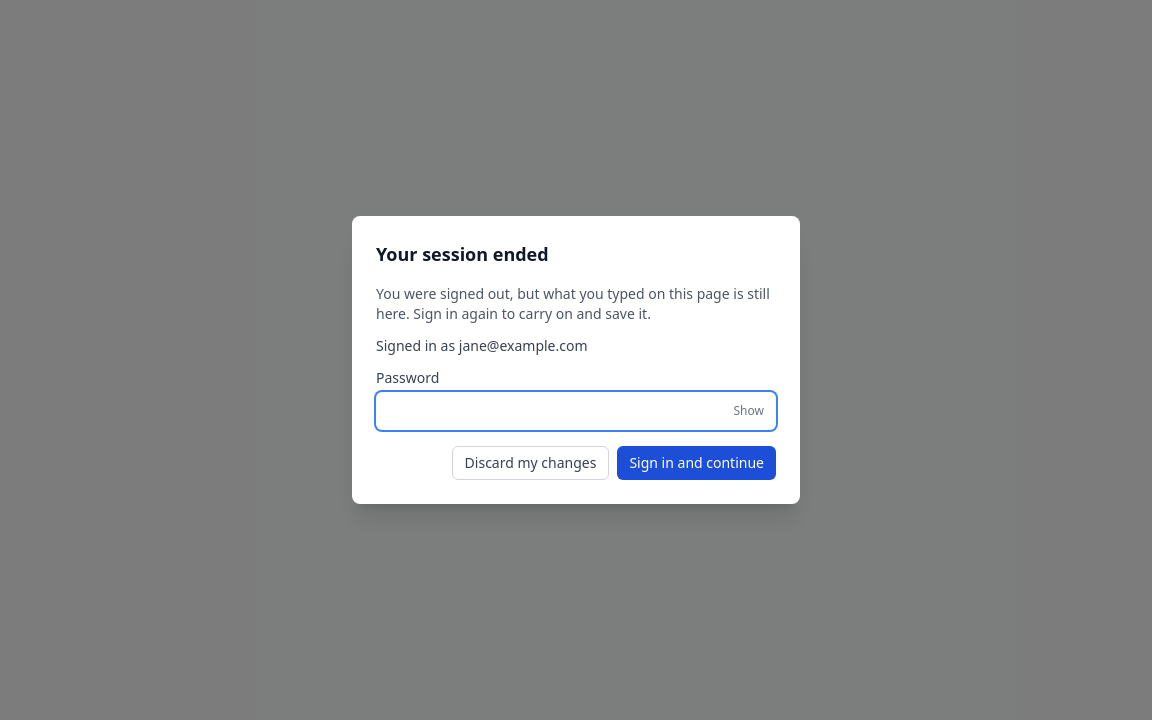
Test case: SessionResumePrompt › a login that is a DIFFERENT account is refused and not adopted
The width and height of the screenshot is (1152, 720).
Type "x" into the password field labelled "Password" at (576, 411), box [376,392,776,430]
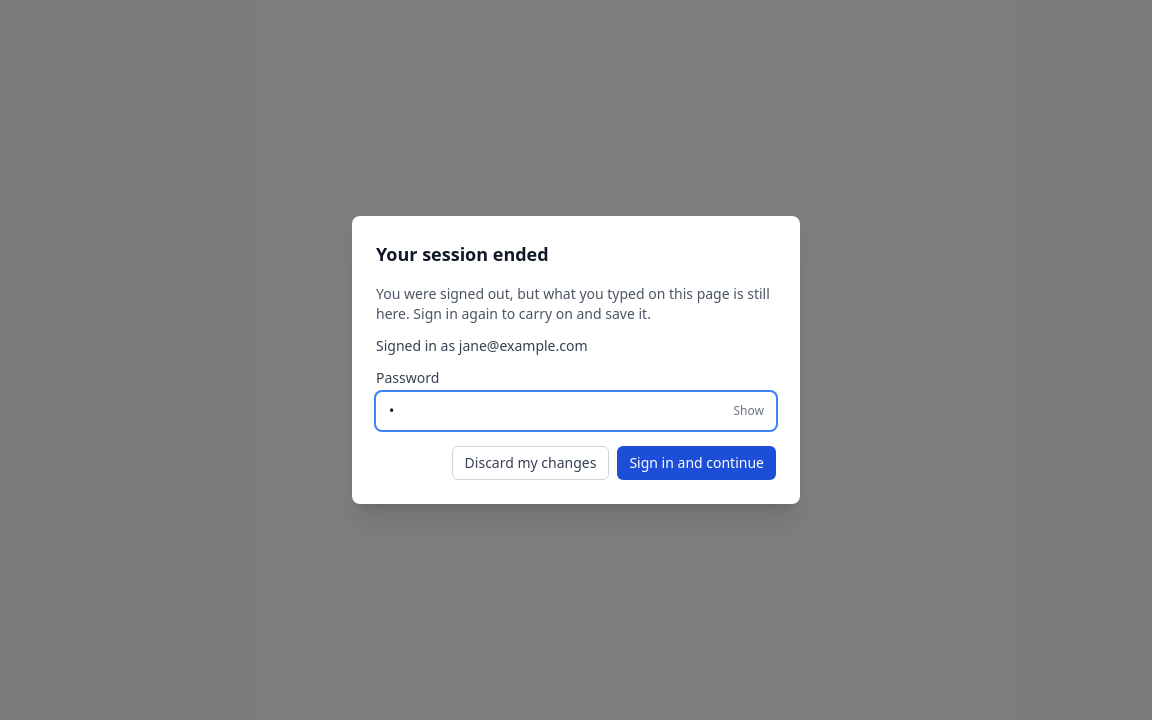
Click the button "Sign in and continue" at (697, 463), box [617,446,776,480]
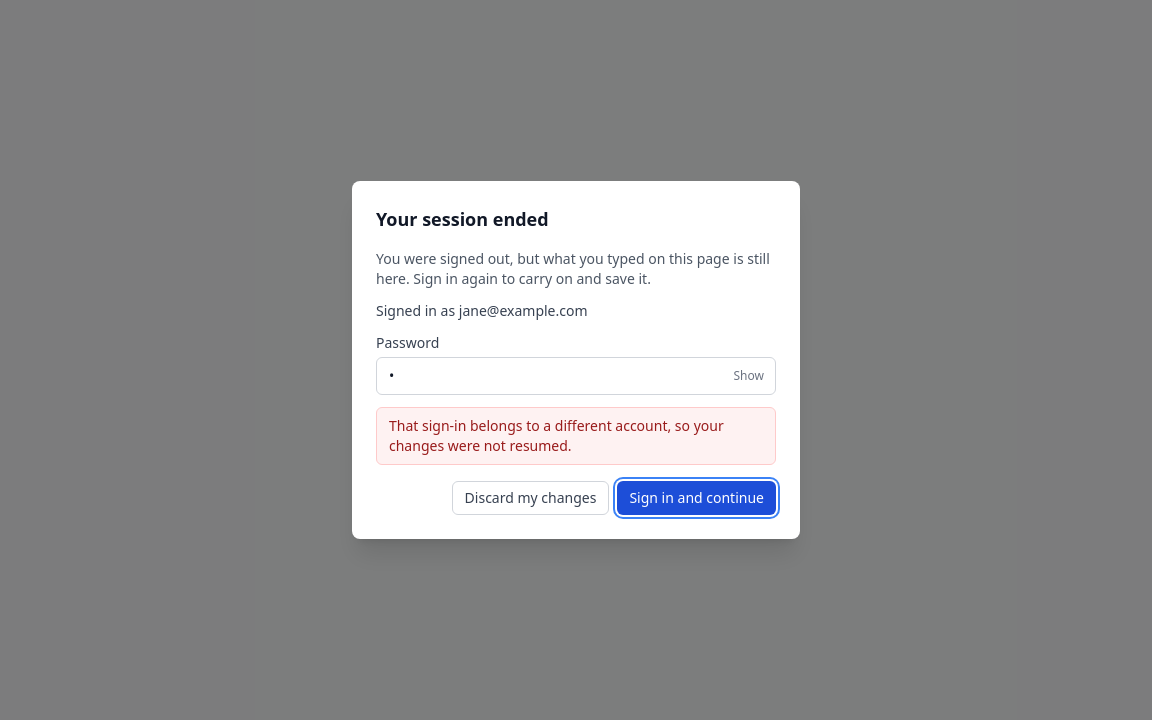
Check: the message shows "different account", box [389,416,724,455]
